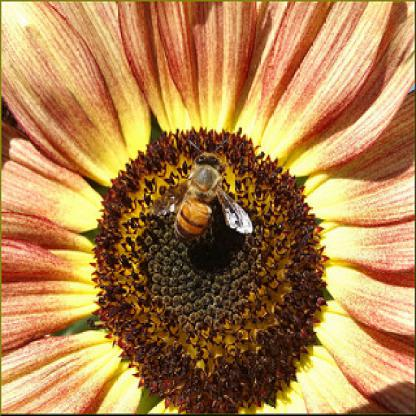SUN FLOWER: (13, 10, 413, 408)
